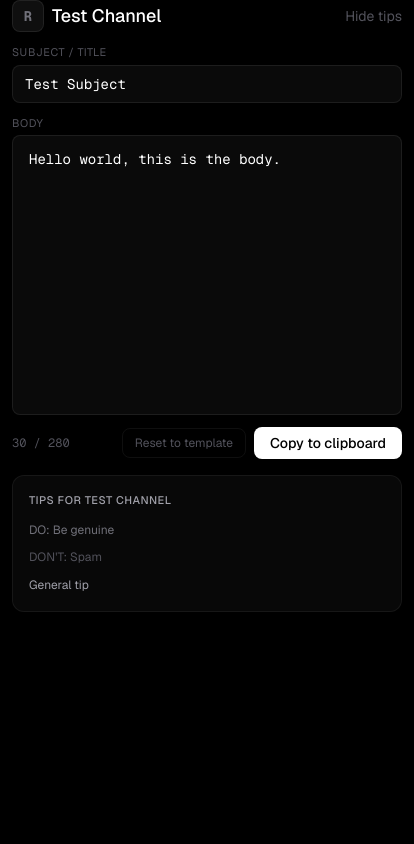
Test case: OutreachEditor › toggles tips visibility on mobile button
Expected: the list item "DO: Be genuine" is shown, [29,522,114,538]
Step 1. Click the button labelled "Hide tips" → (374, 16), box [345,6,402,26]
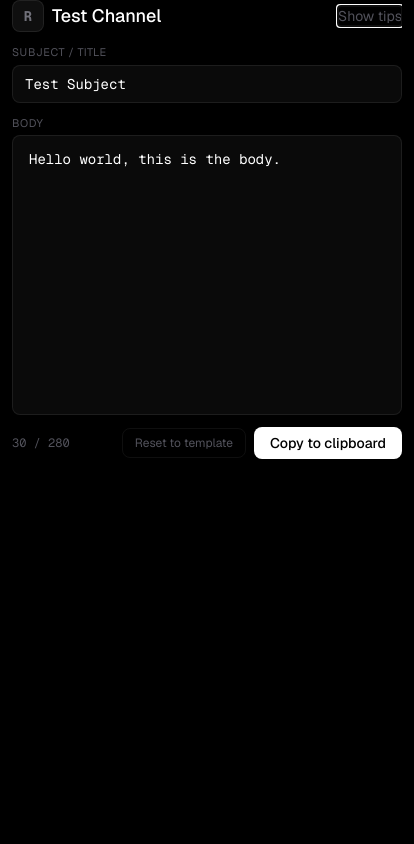
Now the list item "DO: Be genuine" is gone
Step 2. Click the button labelled "Show tips" → (370, 16), box [338,6,402,26]
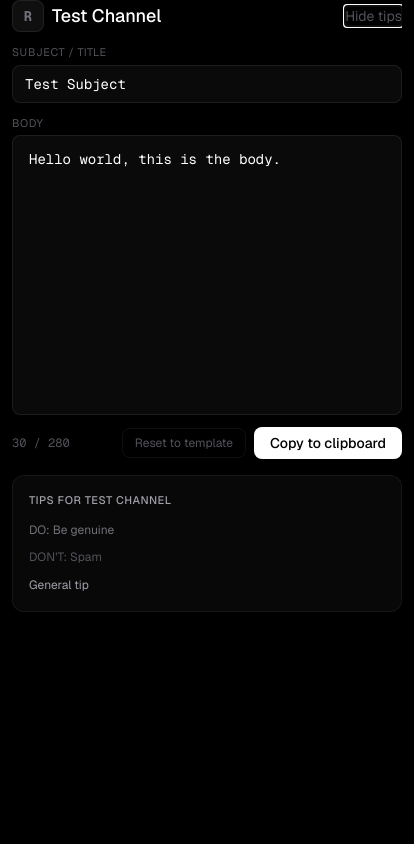
Now the list item "DO: Be genuine" is shown, box [29,522,114,538]
